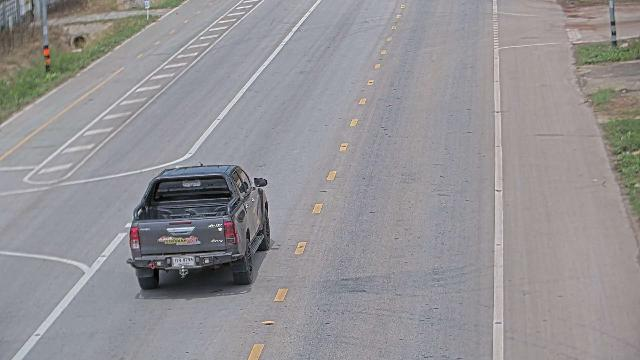pickup-truck: (125, 162, 271, 290)
